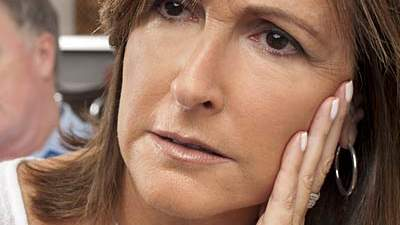stroke: (126, 6, 319, 224)
